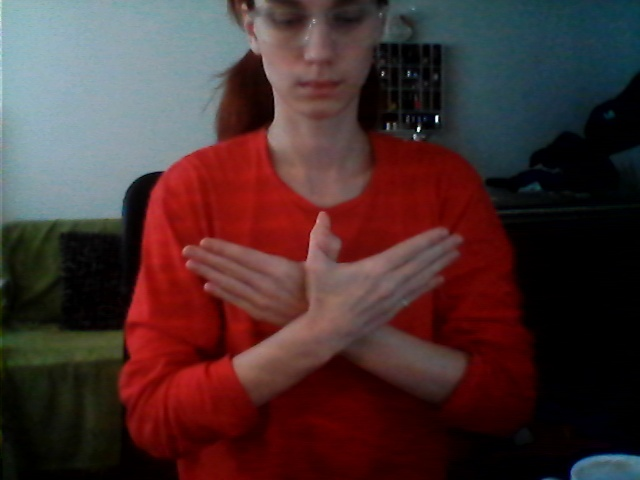lekar: (177, 208, 469, 340)
